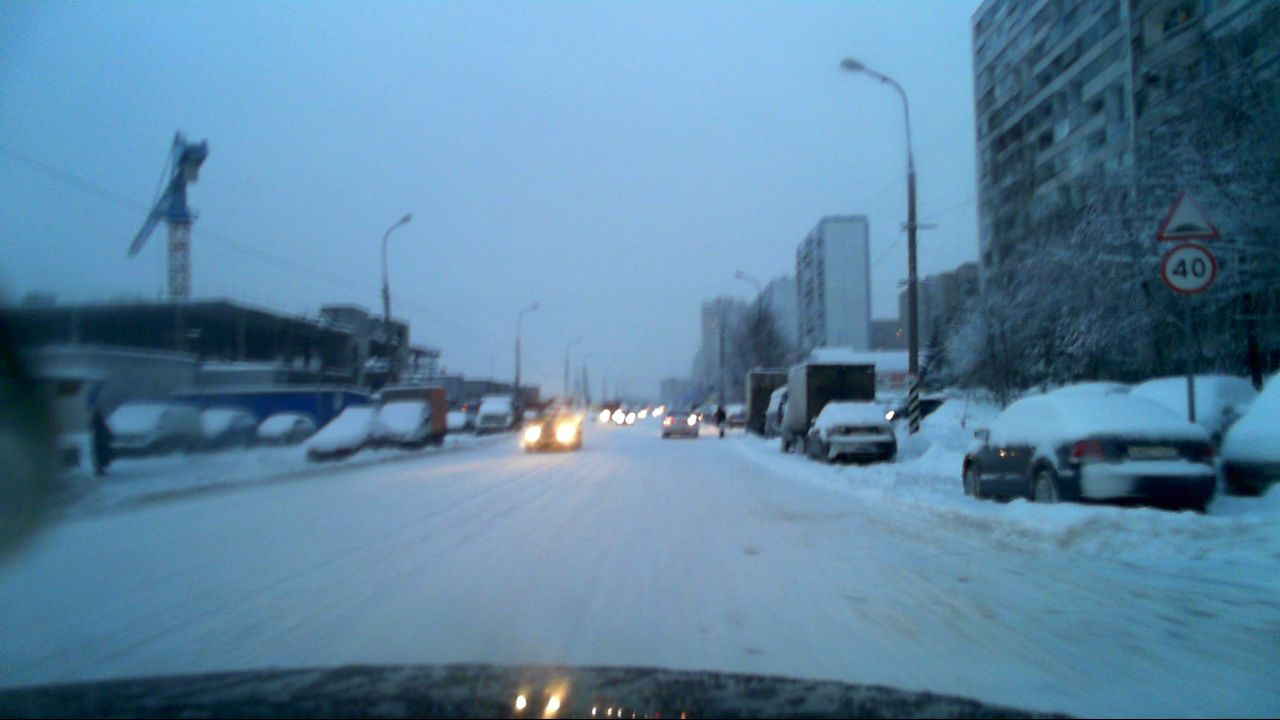speed_warning_40: (1161, 242, 1217, 292)
